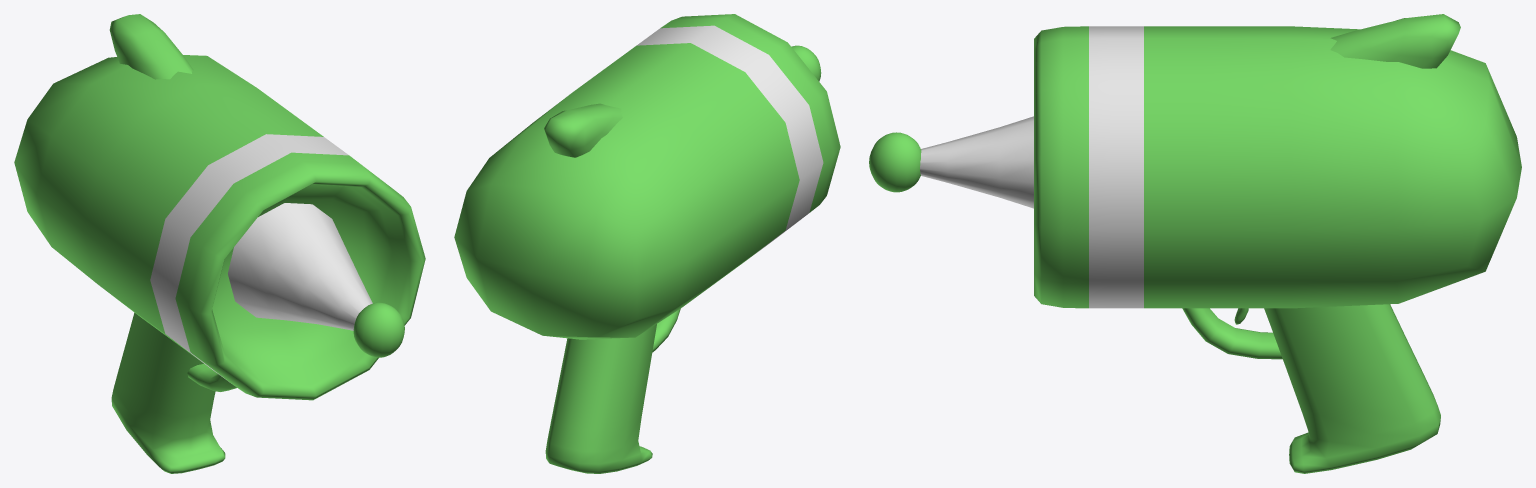
The model's file is Gun.fbx.
3 renders of one model, left to right at view 1: azimuth 30°, elevation 25°; view 2: azimuth 150°, elevation 25°; view 3: azimuth 270°, elevation 25°, orthographic. The views are drawn at different scales.
Visible parts, largest first — view 1: gun; view 2: gun; view 3: gun.
Boxes of the visible parts, <box> form: gun: <box>14,14,425,473</box>; gun: <box>454,14,840,473</box>; gun: <box>869,14,1521,473</box>.
Bounding box in the file's own units: 80.63 × 134 × 180.
